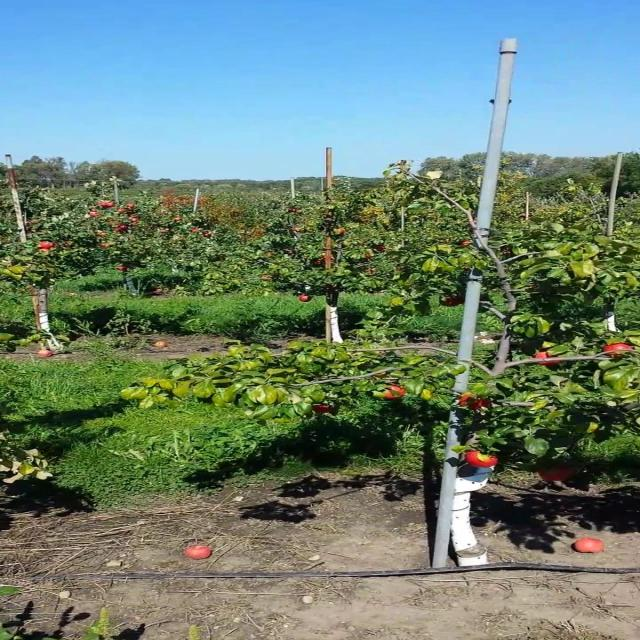apple: (464, 450, 498, 468), (458, 392, 491, 410), (538, 466, 576, 481), (602, 342, 633, 358), (382, 385, 407, 400), (440, 295, 464, 306), (311, 404, 333, 414), (533, 350, 551, 358), (538, 361, 560, 366), (298, 294, 311, 302)
